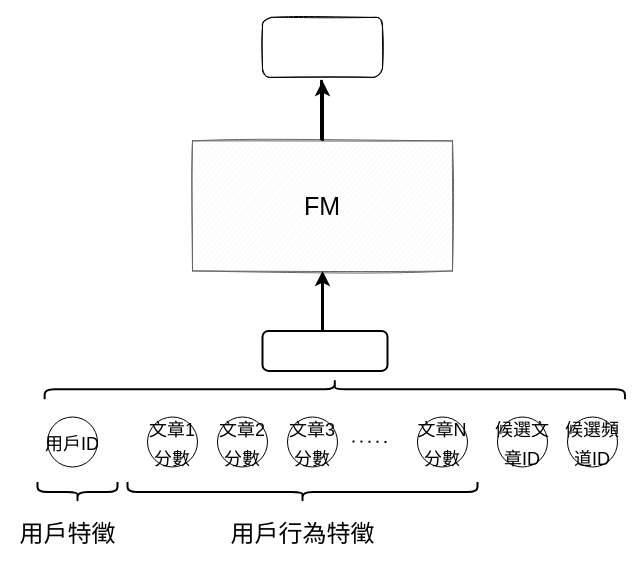
The diagram is 643 pixels wide and 572 high, and some of its shapes have lost their labels. Each missing label, with the centre of its shape:
"Concat" belongs at point 324,350.
"候選文章分數" belongs at point 322,46.
